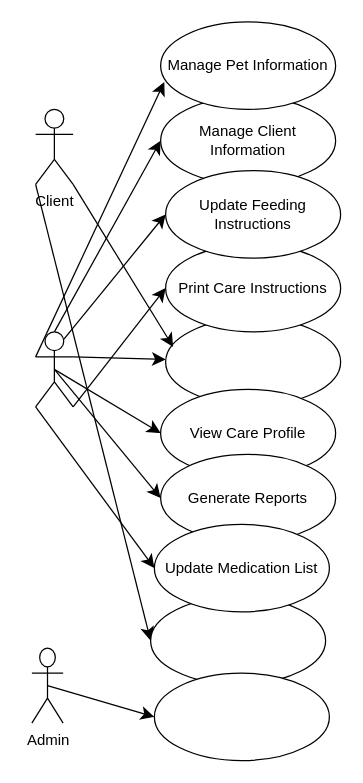
The diagram is 363 pixels wide and 783 high, and some of its shapes have lost their labels. Here are the shapes that lost their labels. From the top down, the centre of each, then its label:
the point at 53,369: Employee
the point at 252,361: Billing and Payments
the point at 237,640: Booking and Reservations
the point at 241,716: Manage Staff Information
